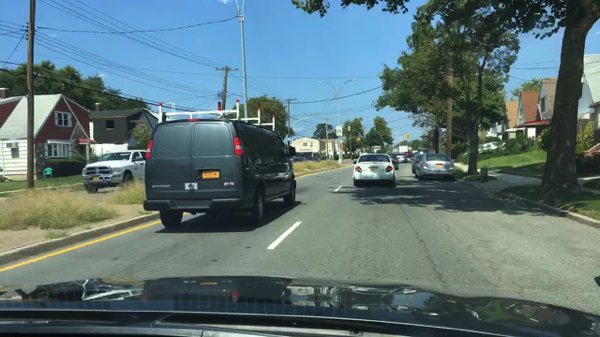car: (81, 148, 147, 192), (353, 152, 395, 186), (416, 154, 456, 181), (478, 141, 499, 154), (411, 153, 423, 175), (387, 153, 397, 168), (396, 153, 407, 164), (405, 151, 412, 160)
traffic light: (404, 132, 408, 138), (357, 135, 360, 141)
traffic sign: (335, 125, 342, 135)
truck: (145, 99, 297, 229)
